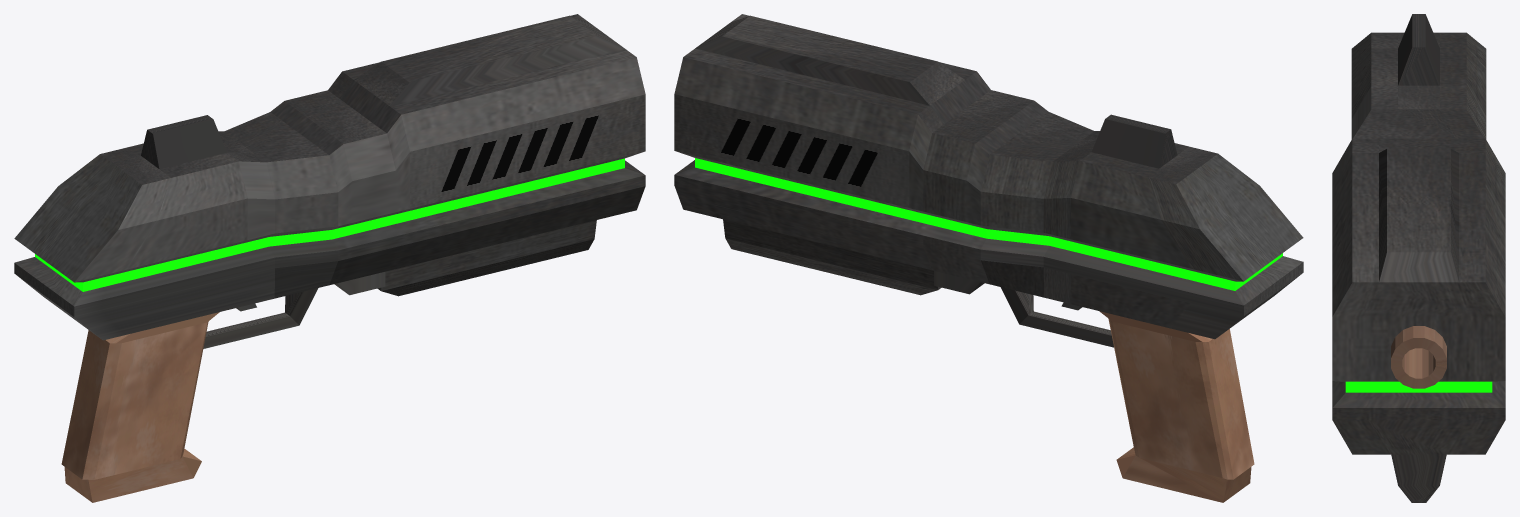
Rendered from LaserPistol.fbx.
The picture shows the model from 3 angles, left to right: view 1: azimuth 30°, elevation 25°; view 2: azimuth 150°, elevation 25°; view 3: azimuth 270°, elevation 25°; orthographic projection. The views are drawn at different scales.
Parts seen in each view (by area): view 1: LaserPistol; view 2: LaserPistol; view 3: LaserPistol.
Boxes of the visible parts, x1,y1,x2,y2 form: LaserPistol: (14, 14, 645, 502); LaserPistol: (674, 14, 1303, 502); LaserPistol: (1332, 14, 1505, 502).
Size of the model in its own units: 800 by 451 by 182.
Materials: 2 (1 with a texture image).
